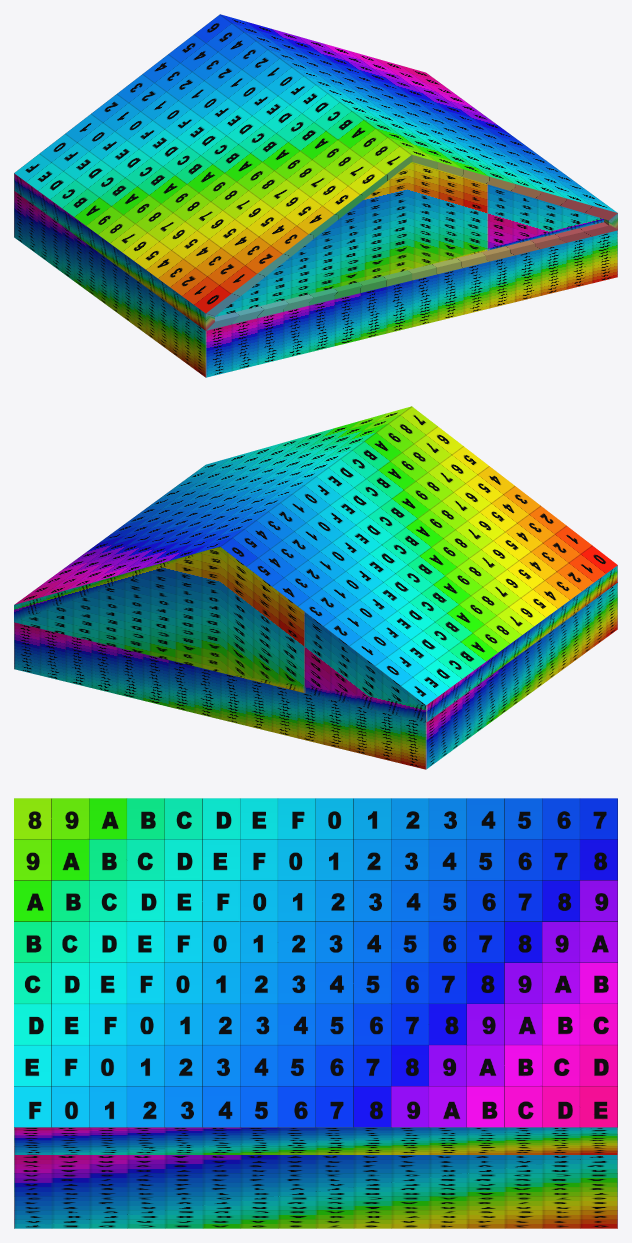
Rendered from Triangle_Roof_Inset.FBX.
The picture shows the model from 3 angles, top to bottom: view 1: azimuth 30°, elevation 25°; view 2: azimuth 150°, elevation 25°; view 3: azimuth 270°, elevation 25°; orthographic projection. The views are drawn at different scales.
Parts seen in each view (by area): view 1: Triangle roof in set; view 2: Triangle roof in set; view 3: Triangle roof in set.
Boxes of the visible parts, <box> form: Triangle roof in set: <box>14,14,617,377</box>; Triangle roof in set: <box>14,406,617,769</box>; Triangle roof in set: <box>14,798,617,1228</box>.
Bounding box in the file's own units: 1967 × 788 × 1586.
Materials: 1 (1 with a texture image).
